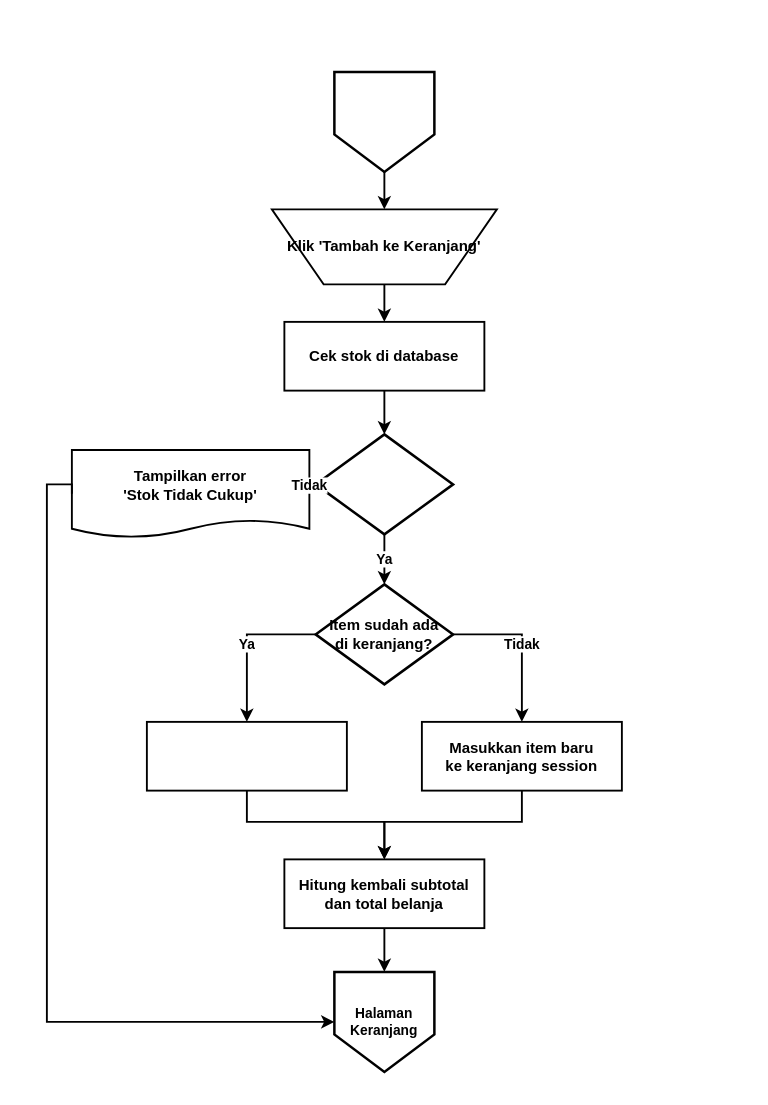
This 768x1105 diagram has some shape labels left out. Here are the shapes that lost their labels. From the top down, the box of each, then its label:
(332, 70, 435, 172): Halaman Detail Produk
(314, 432, 454, 535): Apakah stok > 0?
(145, 720, 347, 791): Kuantitas item di keranjang + 1
